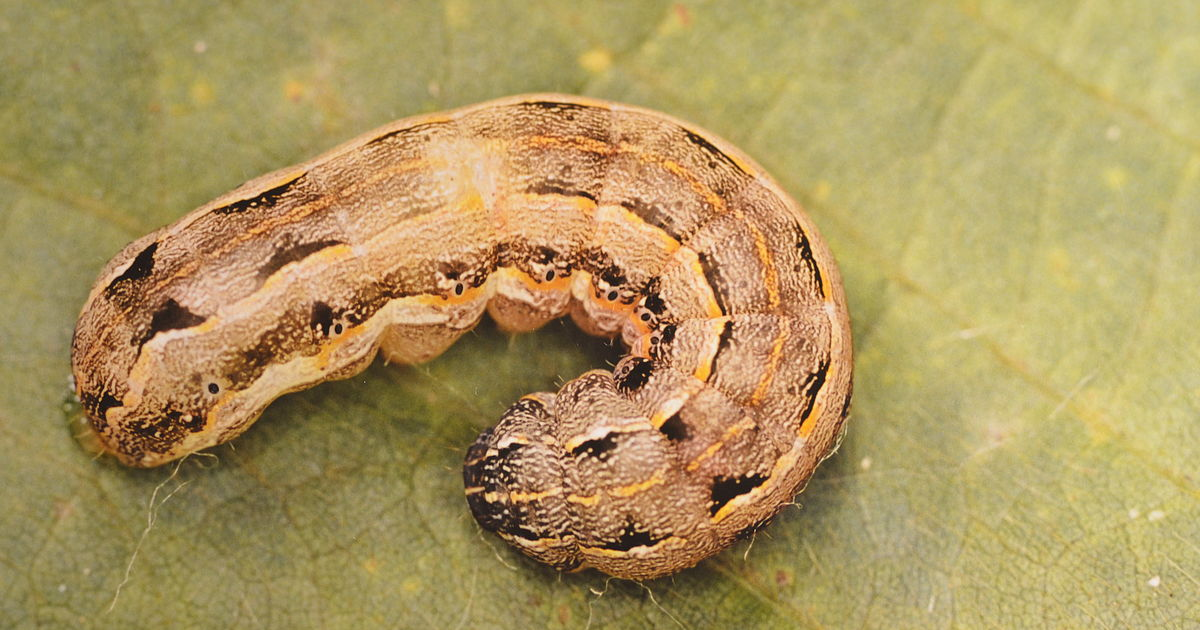Armyworm: (41, 70, 862, 598)
